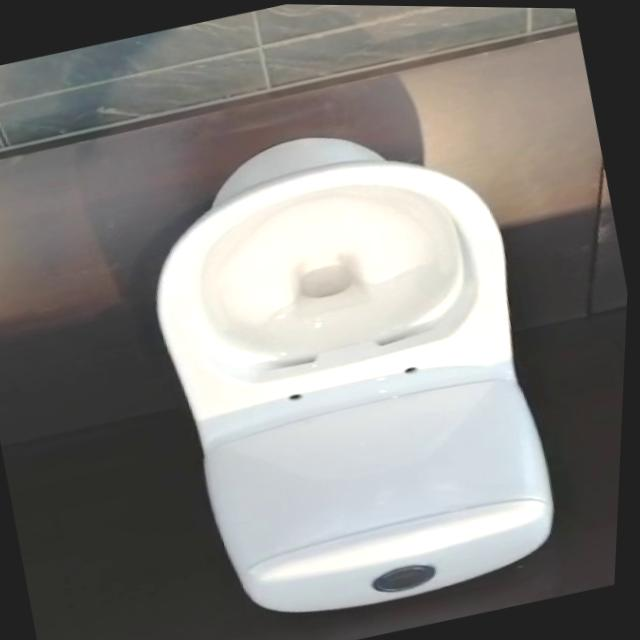toilet: (116, 93, 589, 640)
